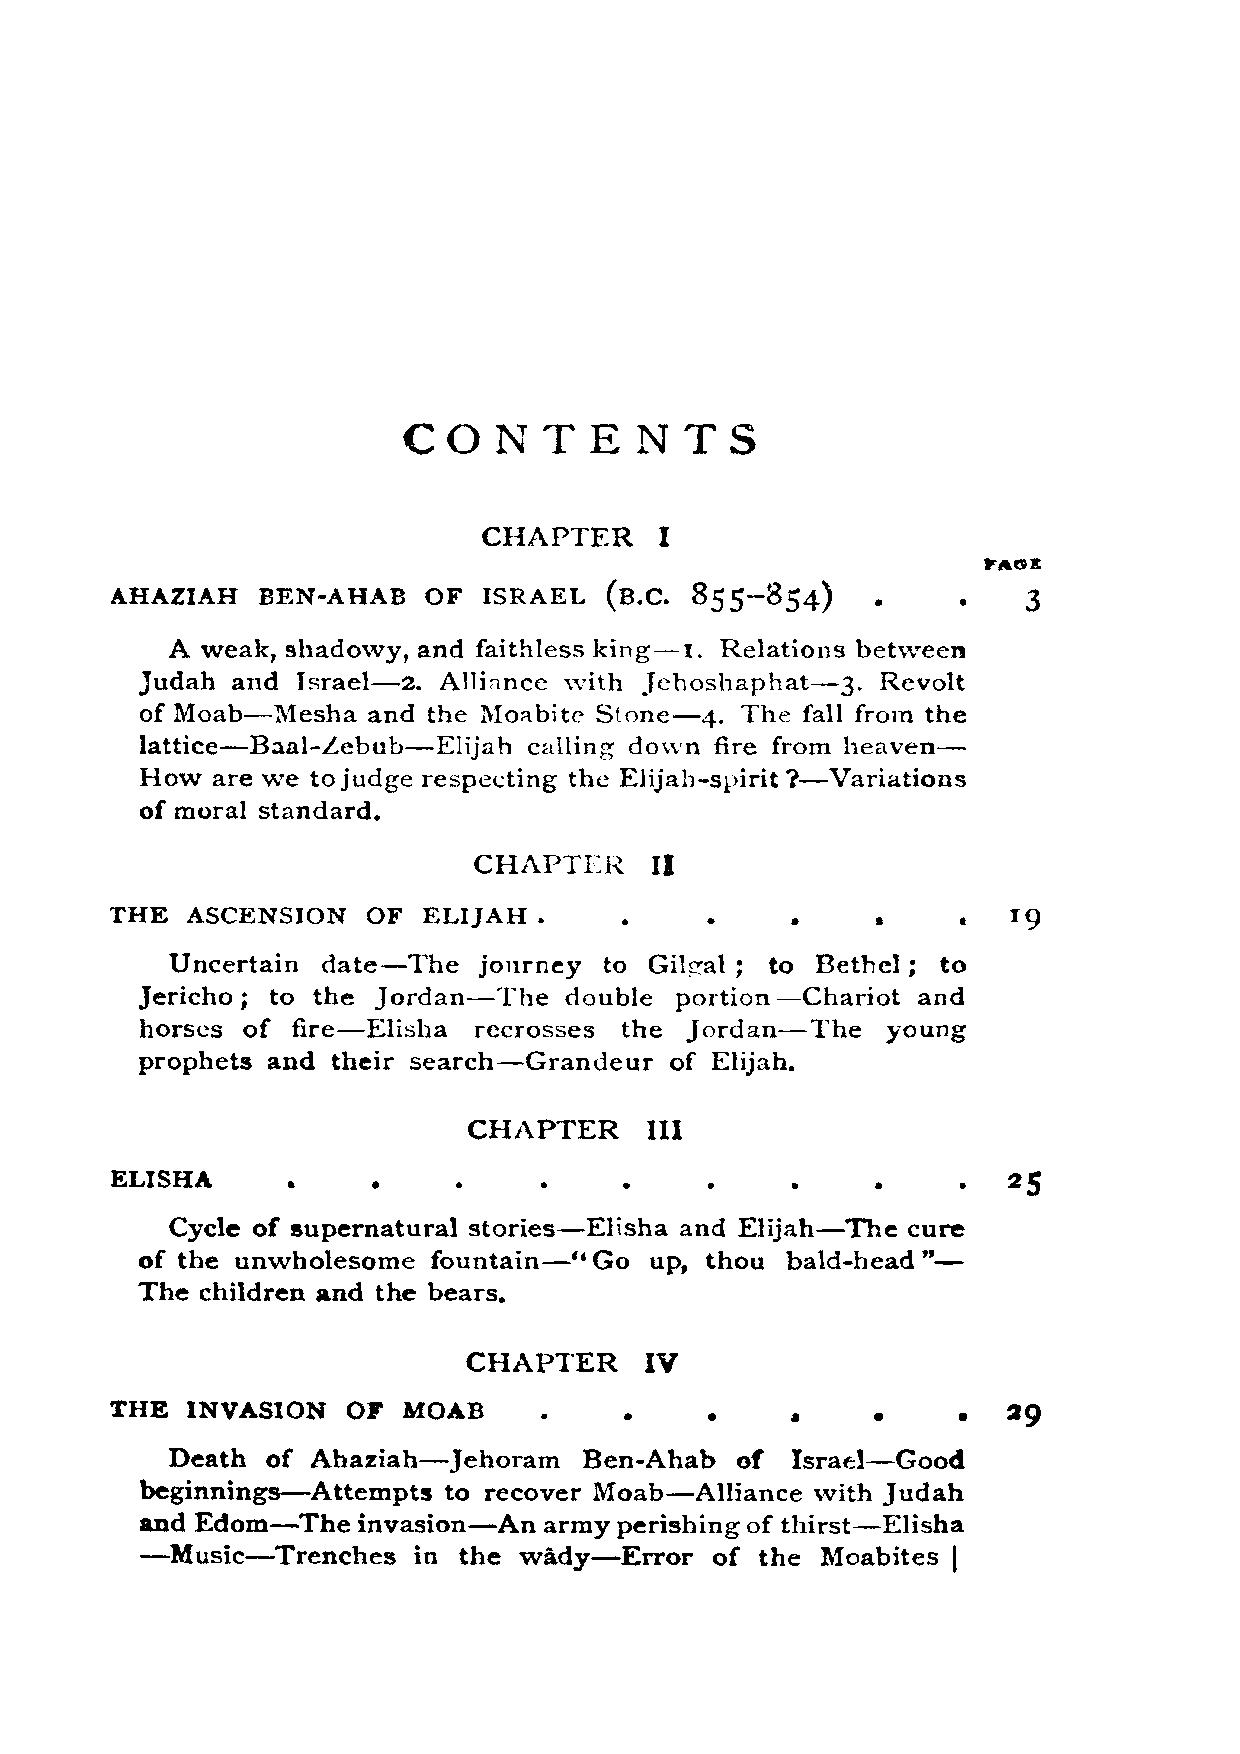TOC_chapter: (107, 523, 972, 825), (102, 1345, 970, 1576), (103, 845, 972, 1075), (102, 1104, 970, 1300)
TOC_pagenumber: (1001, 1159, 1045, 1200), (1004, 1394, 1045, 1435), (1006, 895, 1043, 935), (1017, 584, 1053, 616)
chapter: (403, 413, 756, 460)
